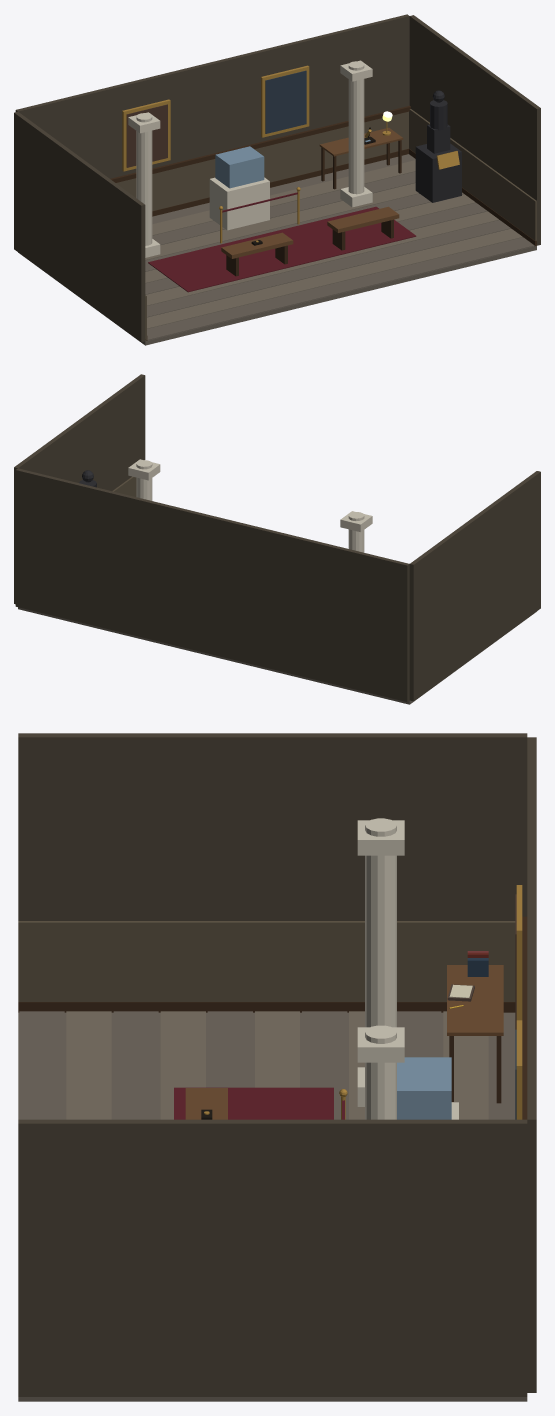
File: gallery.glb
3 views of the same model, one above another, from view 1: azimuth 30°, elevation 25°; view 2: azimuth 150°, elevation 25°; view 3: azimuth 270°, elevation 25° (orthographic). The views are drawn at different scales.
Parts seen in each view (by area): view 1: WallBack, WallLeft, WallRight, Runner, BandBack, Plank0, Plank1, Plank2, BandRight, Floor, Plank7, CrownPlinth (+24 smaller); view 2: WallBack, WallLeft, WallRight, Floor, Col1, Col0, ColCap1; view 3: WallRight, WallLeft, BandLeft, Floor, WallBack, Col0, Plank0, Plank1, Plank2, SkirtLeft, Plank3, Runner (+14 smaller).
Part boxes in pixels (left/top/right/bottom): WallBack: left=15, top=14, right=409, bottom=178; WallLeft: left=14, top=111, right=145, bottom=342; WallRight: left=409, top=15, right=540, bottom=245; Runner: left=148, top=206, right=416, bottom=292; BandBack: left=116, top=111, right=408, bottom=211; Plank0: left=147, top=237, right=534, bottom=340; Plank1: left=147, top=228, right=522, bottom=328; Plank2: left=147, top=220, right=510, bottom=317; BandRight: left=409, top=109, right=536, bottom=241; Floor: left=18, top=154, right=536, bottom=345; Plank7: left=145, top=183, right=418, bottom=260; CrownPlinth: left=209, top=177, right=269, bottom=230; WallBack: left=15, top=468, right=409, bottom=701; WallLeft: left=409, top=471, right=540, bottom=701; WallRight: left=14, top=374, right=145, bottom=604; Floor: left=18, top=607, right=536, bottom=704; Col1: left=136, top=460, right=152, bottom=500; Col0: left=348, top=512, right=364, bottom=552; ColCap1: left=128, top=459, right=160, bottom=480; WallRight: left=18, top=1119, right=527, bottom=1396; WallLeft: left=18, top=733, right=527, bottom=920; BandLeft: left=18, top=921, right=515, bottom=1001; Floor: left=18, top=1012, right=527, bottom=1401; WallBack: left=527, top=737, right=536, bottom=1392; Col0: left=365, top=818, right=396, bottom=1027; Plank0: left=19, top=1011, right=64, bottom=1119; Plank1: left=66, top=1011, right=111, bottom=1119; Plank2: left=113, top=1011, right=158, bottom=1119; SkirtLeft: left=18, top=1002, right=515, bottom=1012; Plank3: left=160, top=1011, right=205, bottom=1119; Runner: left=174, top=1087, right=333, bottom=1119.
Size of the model in its own units: 9.8 by 3.3 by 5.5.
